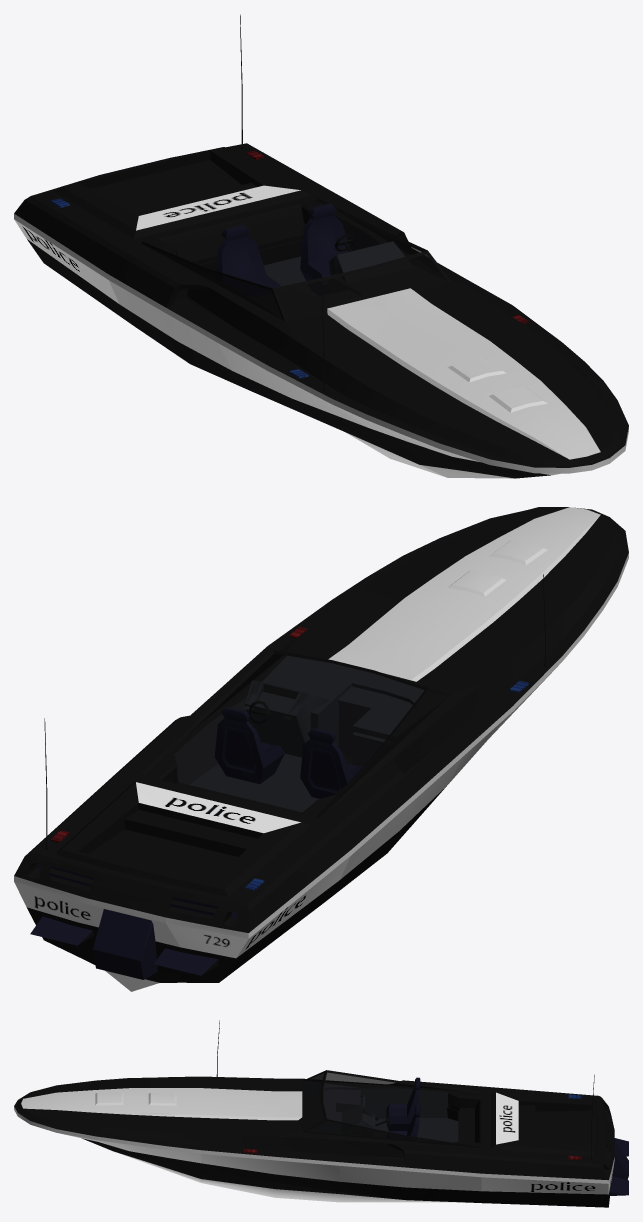
Rendered from Boat.FBX.
The picture shows the model from 3 angles, top to bottom: view 1: azimuth 30°, elevation 25°; view 2: azimuth 150°, elevation 25°; view 3: azimuth 270°, elevation 25°; orthographic projection. The views are drawn at different scales.
Parts seen in each view (by area): view 1: Body; view 2: Body; view 3: Body.
Part boxes in pixels (x1=…): Body: x1=14, y1=14, x2=628, y2=478; Body: x1=14, y1=507, x2=628, y2=991; Body: x1=14, y1=1020, x2=628, y2=1207.
Bounding box in the file's own units: 19.76 × 18.96 × 66.47.
